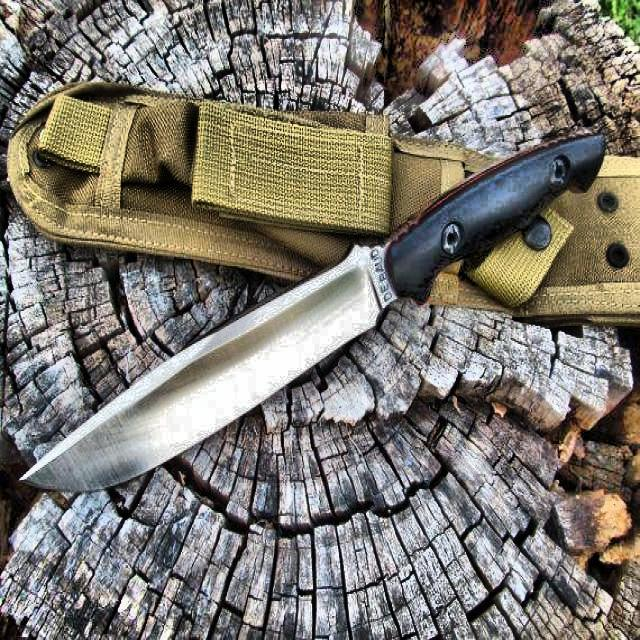knife: (20, 138, 604, 490)
